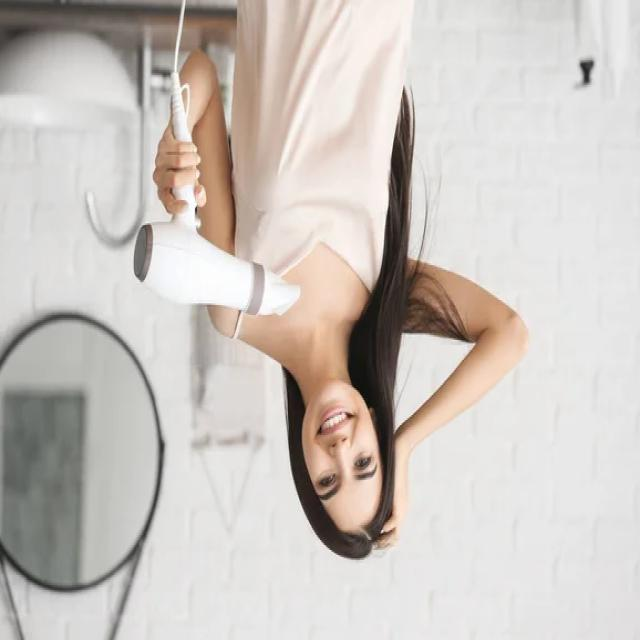dryer: (116, 60, 305, 333)
